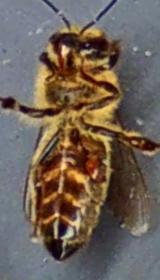varroa_mite: (78, 147, 112, 183)
